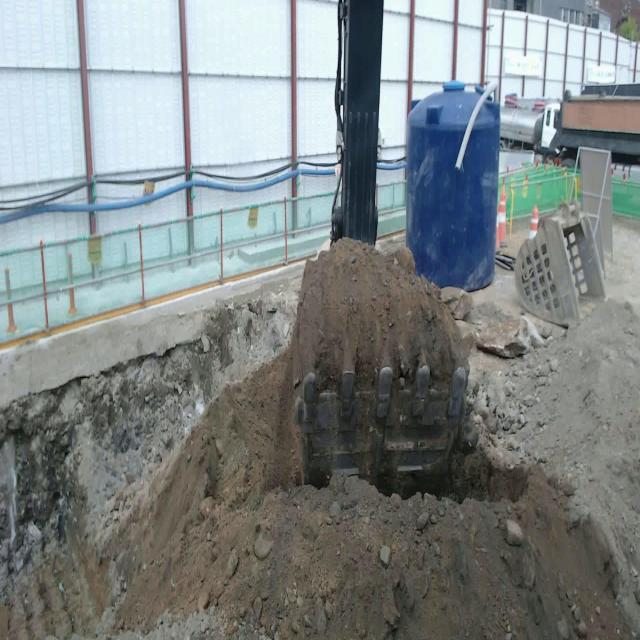cement: (0, 261, 304, 407)
red-sand: (0, 239, 640, 639)
stone: (475, 317, 529, 359), (440, 287, 473, 320)
